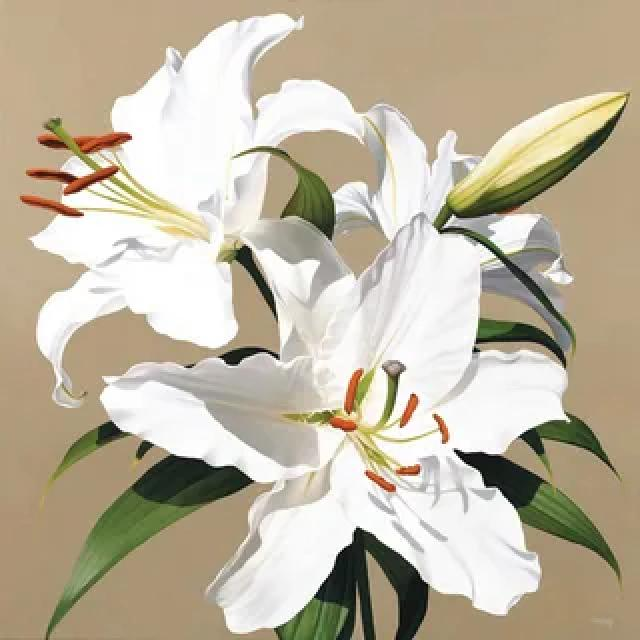lily: (98, 222, 579, 640)
